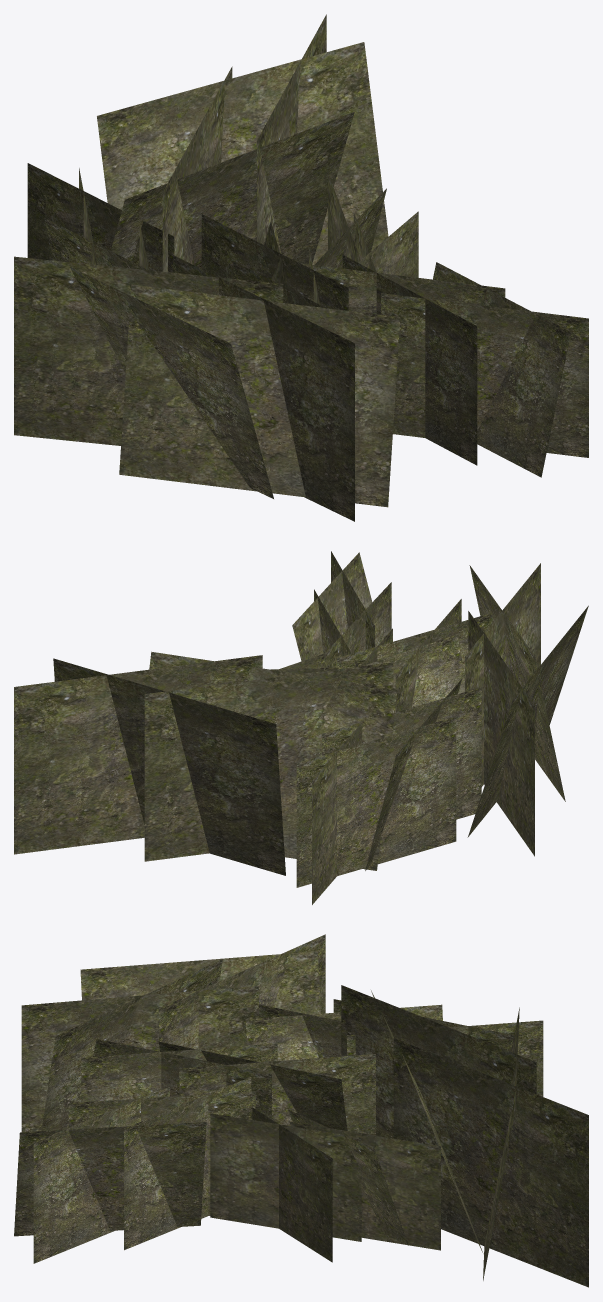
3 renders of one model, top to bottom at view 1: azimuth 30°, elevation 25°; view 2: azimuth 150°, elevation 25°; view 3: azimuth 270°, elevation 25°, orthographic. The views are drawn at different scales.
Parts seen in each view (by area): view 1: lgt_plt_0001_ms_001_043; view 2: lgt_plt_0001_ms_001_043; view 3: lgt_plt_0001_ms_001_043.
Boxes of the visible parts, left/top/right/bottom form: lgt_plt_0001_ms_001_043: left=14, top=14, right=588, bottom=521; lgt_plt_0001_ms_001_043: left=14, top=551, right=588, bottom=904; lgt_plt_0001_ms_001_043: left=14, top=934, right=588, bottom=1287.
Bounding box in the file's own units: 114 × 48.32 × 139.
